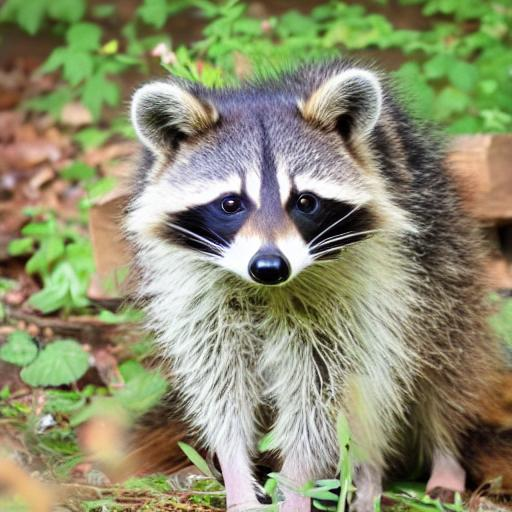raccoon: (112, 45, 509, 469)
